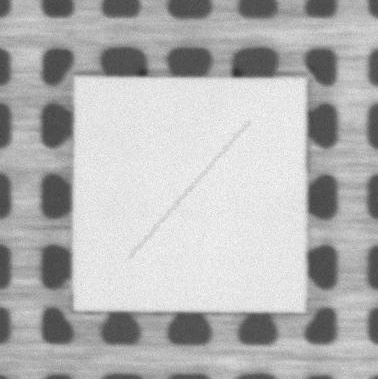DIE_CRACK: (129, 122, 248, 259)
